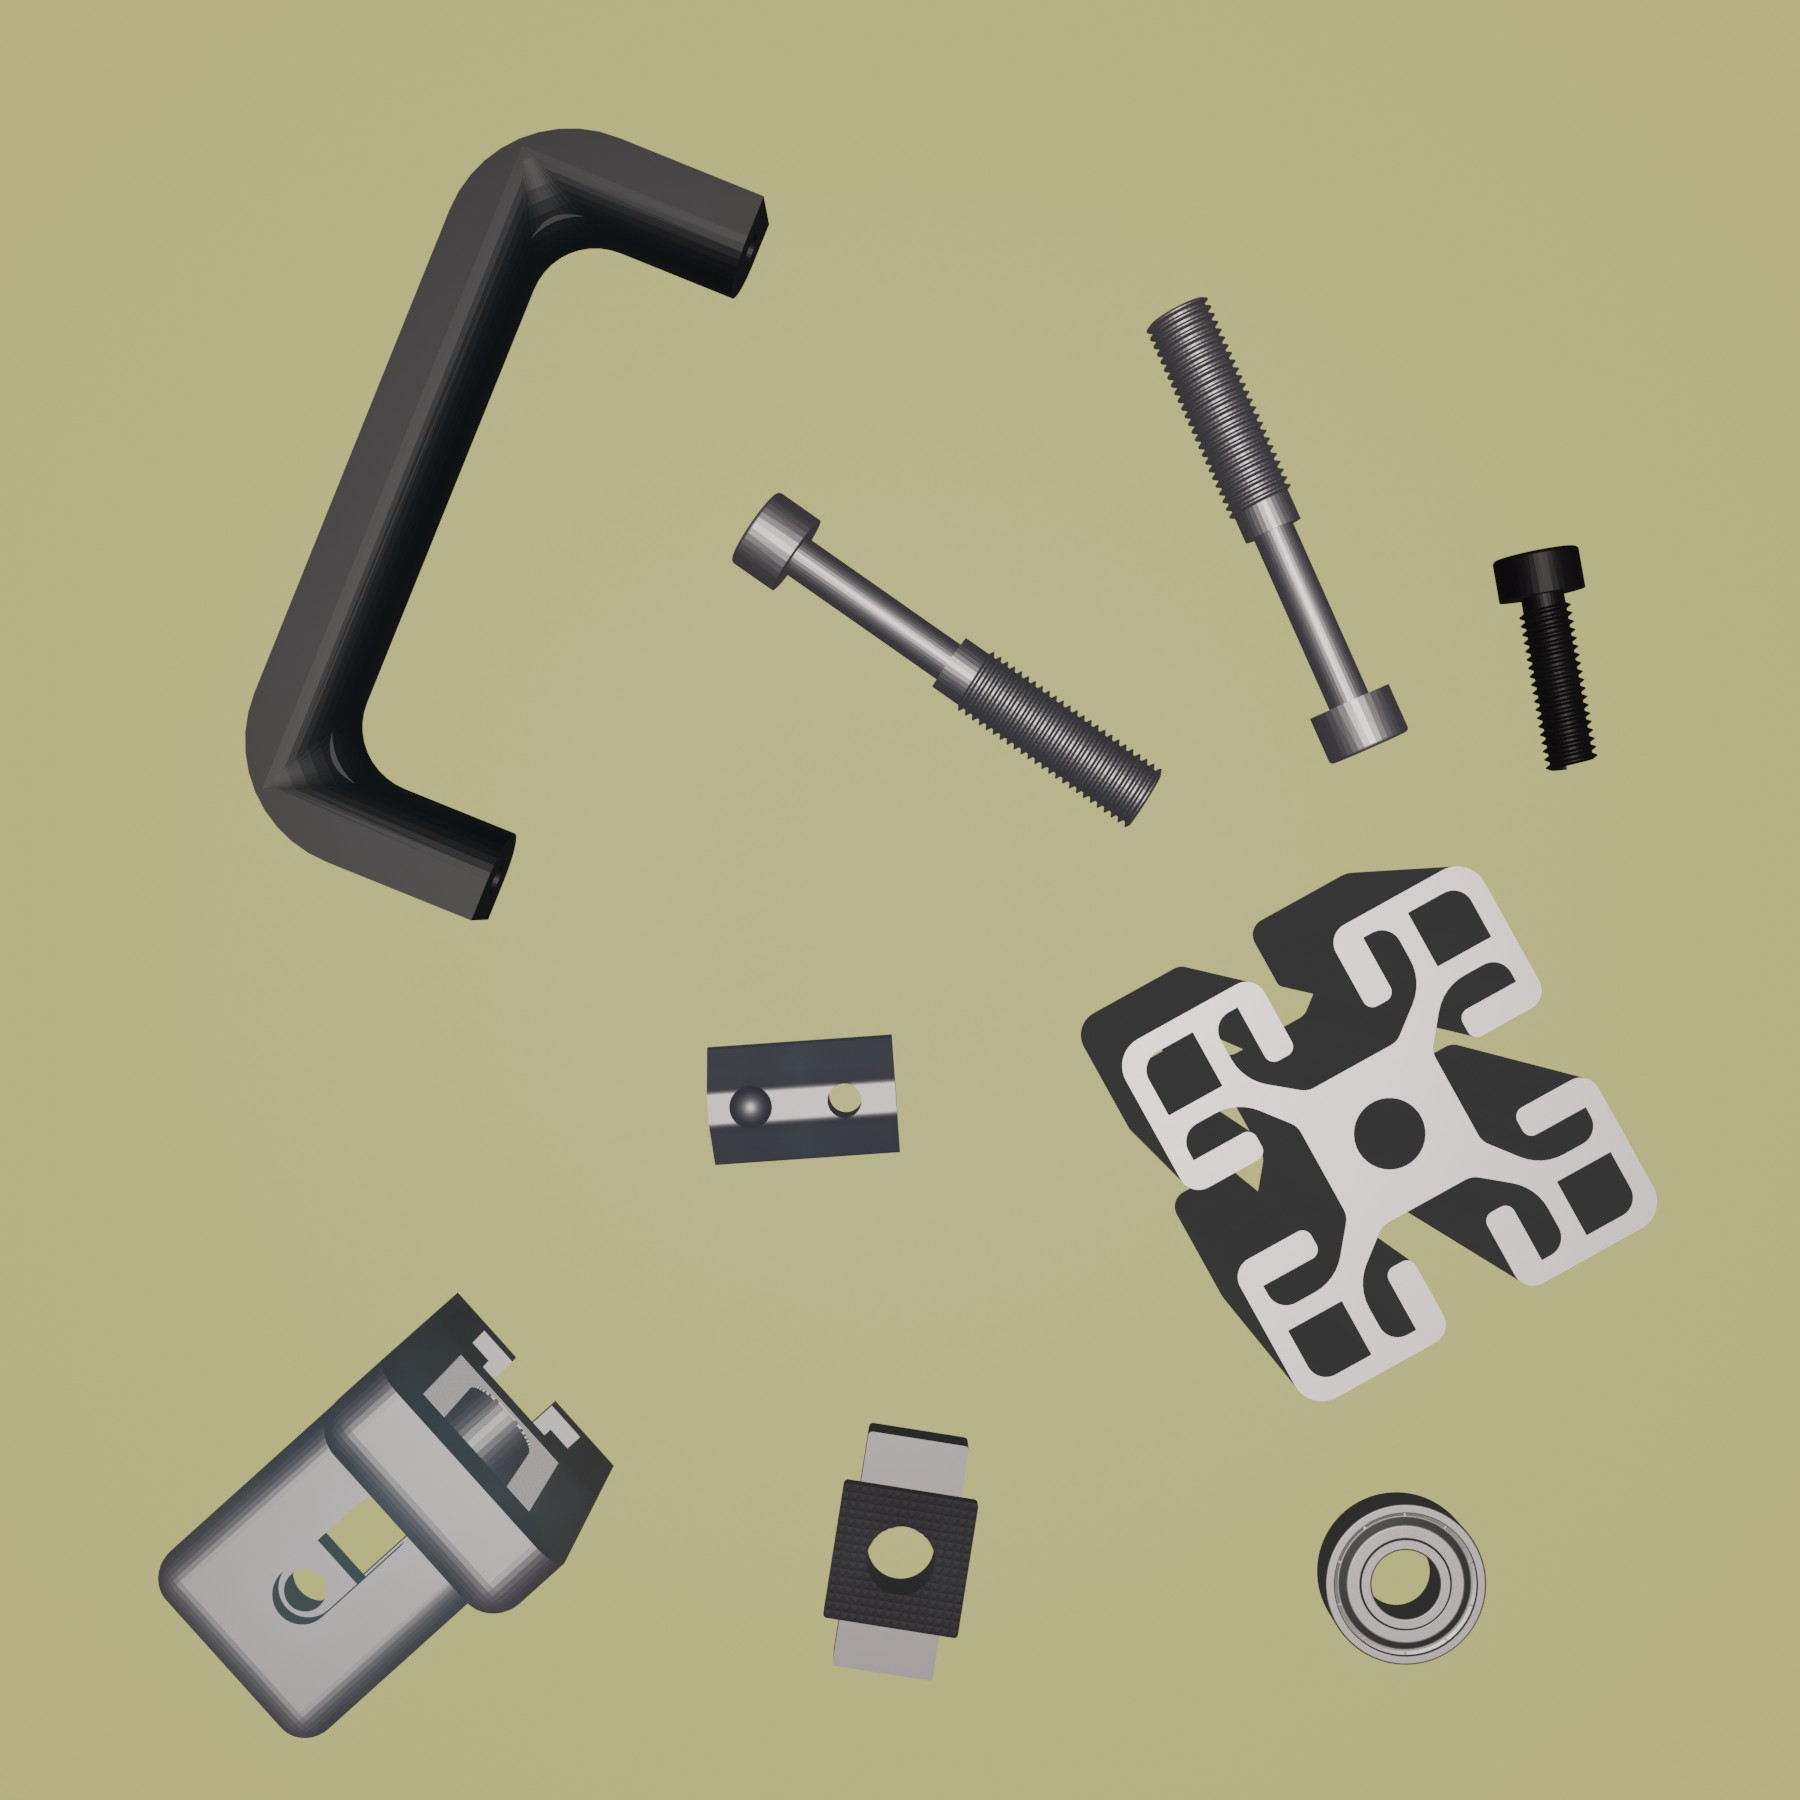Aluminium Extension: (1076, 860, 1662, 1403)
Ball Bearing: (1314, 1488, 1488, 1670)
Multiwinkel: (157, 1289, 616, 1742)
Pull Handle: (242, 125, 775, 925)
Shoulder Socket Head Cap Screw: (730, 491, 1162, 834), (1142, 293, 1411, 766)
Socket Head Cap Screw: (1490, 546, 1597, 776)
T Nut Square: (819, 1418, 982, 1685)
T Spring Nut: (701, 1030, 903, 1170)
